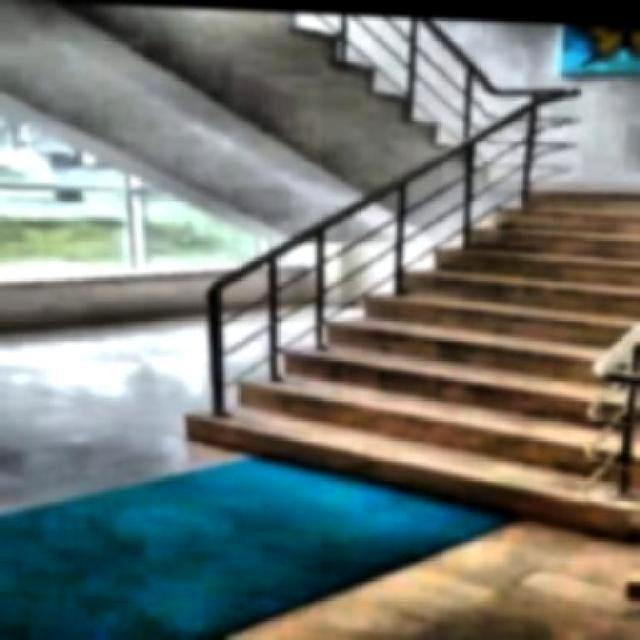stair: (144, 136, 638, 538)
